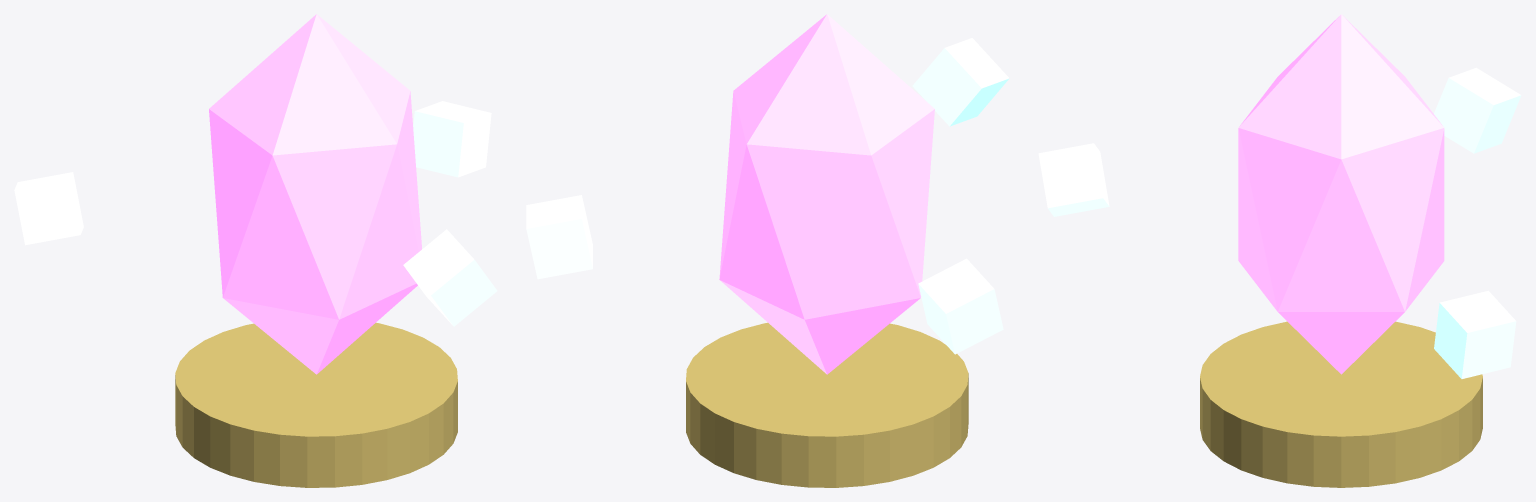
File: crystal.glb
The picture shows the model from 3 angles, left to right: view 1: azimuth 30°, elevation 25°; view 2: azimuth 150°, elevation 25°; view 3: azimuth 270°, elevation 25°; orthographic projection.
Parts seen in each view (by area): view 1: Crystal, Pedestal, Scrap0, Scrap2, Scrap1; view 2: Crystal, Pedestal, Scrap1, Scrap2, Scrap0; view 3: Crystal, Pedestal, Scrap0, Scrap1, Scrap2.
Part boxes in pixels (box(x1,y1,x2,y2)): Crystal: box(209, 14, 421, 374); Pedestal: box(175, 322, 457, 487); Scrap0: box(413, 101, 491, 177); Scrap2: box(403, 229, 497, 326); Scrap1: box(14, 172, 83, 245); Crystal: box(719, 14, 934, 374); Pedestal: box(686, 322, 968, 487); Scrap1: box(918, 258, 1003, 354); Scrap2: box(912, 38, 1009, 126); Scrap0: box(526, 195, 592, 279); Crystal: box(1238, 14, 1444, 374); Pedestal: box(1200, 321, 1482, 487); Scrap0: box(1434, 290, 1516, 378); Scrap1: box(1434, 67, 1521, 153); Scrap2: box(1038, 143, 1109, 216).
Size of the model in its own units: 1.73 by 1.45 by 1.54.
